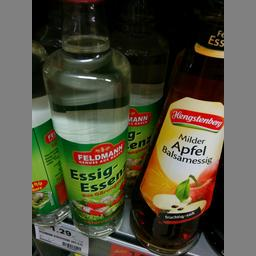vinegar: (129, 20, 222, 254), (42, 0, 126, 235)
